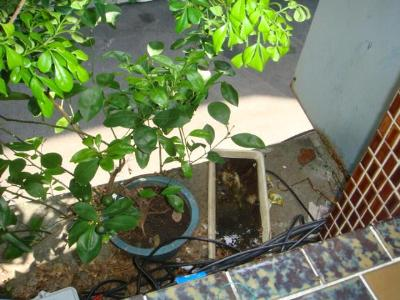box: (208, 146, 274, 262)
